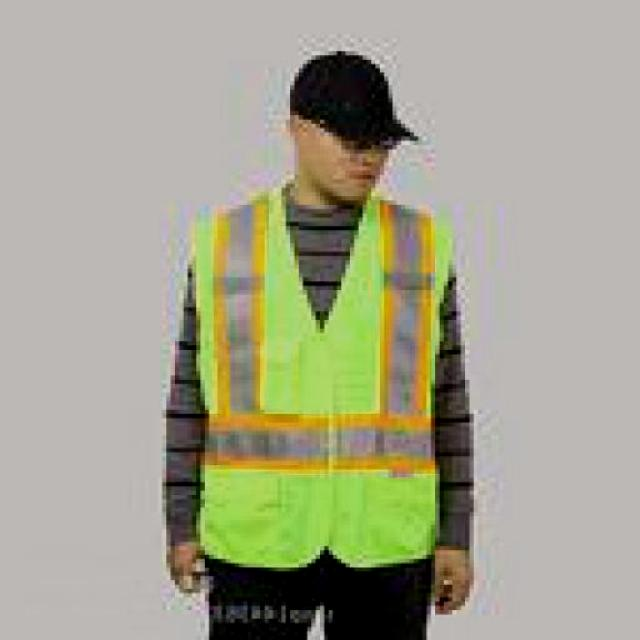face_nomask: (322, 121, 396, 194)
hand_noglove: (423, 539, 479, 617), (162, 529, 212, 601)
head_nohelmet: (280, 51, 416, 134)
person: (156, 49, 484, 640)
vest: (188, 188, 448, 572)
